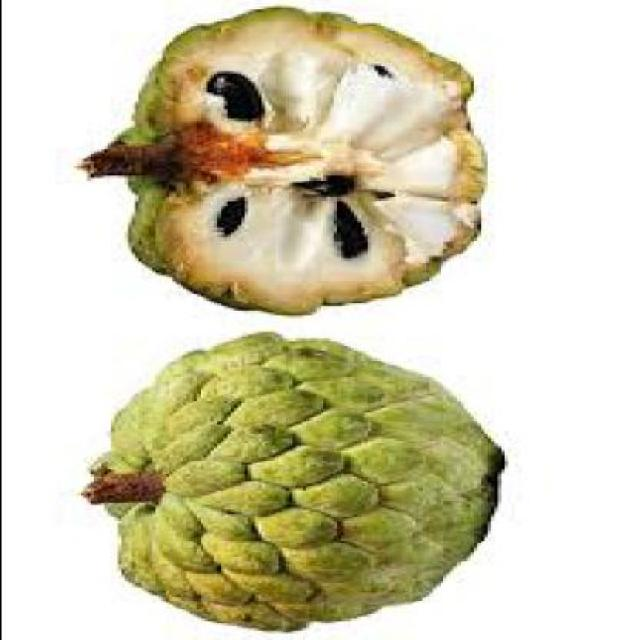BIODEGRADABLE: (80, 334, 505, 634), (80, 14, 486, 315)
